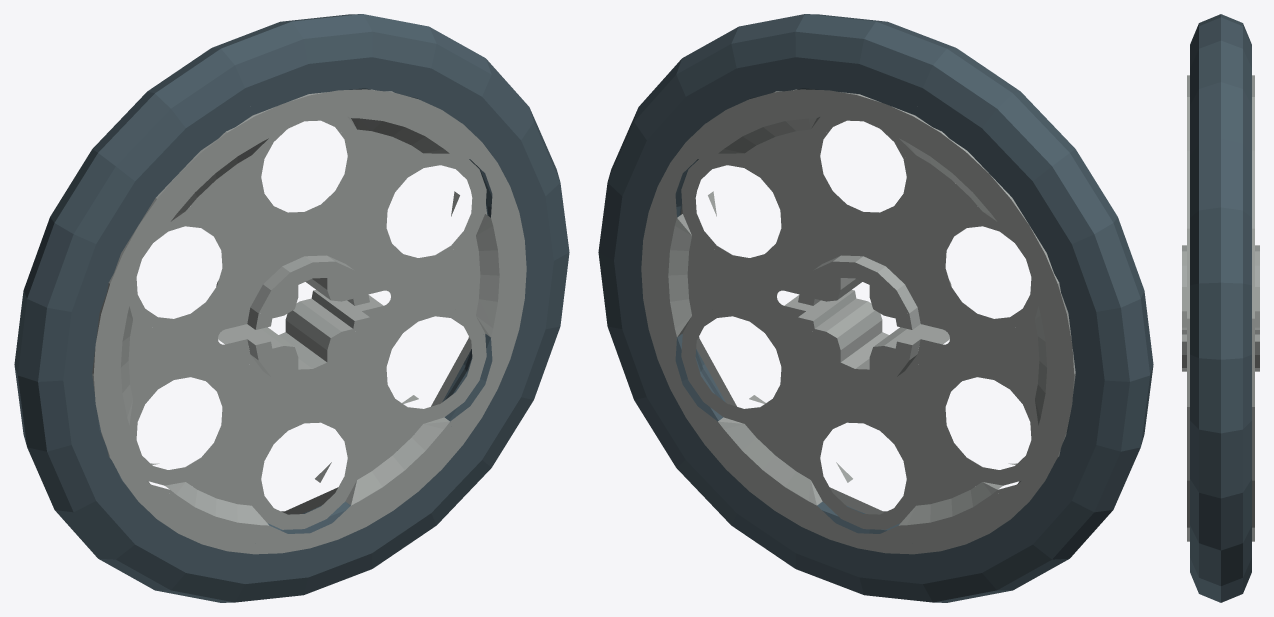
3 renders of one model, left to right at view 1: azimuth 30°, elevation 25°; view 2: azimuth 150°, elevation 25°; view 3: azimuth 270°, elevation 25°, orthographic. The views are drawn at different scales.
Visible parts, largest first — view 1: world; view 2: world; view 3: world.
Part boxes in pixels (<box>): world: <box>14,14,569,602</box>; world: <box>598,14,1153,602</box>; world: <box>1182,14,1259,602</box>.
Size of the model in its own units: 0.0304 by 0.0304 by 0.004.
